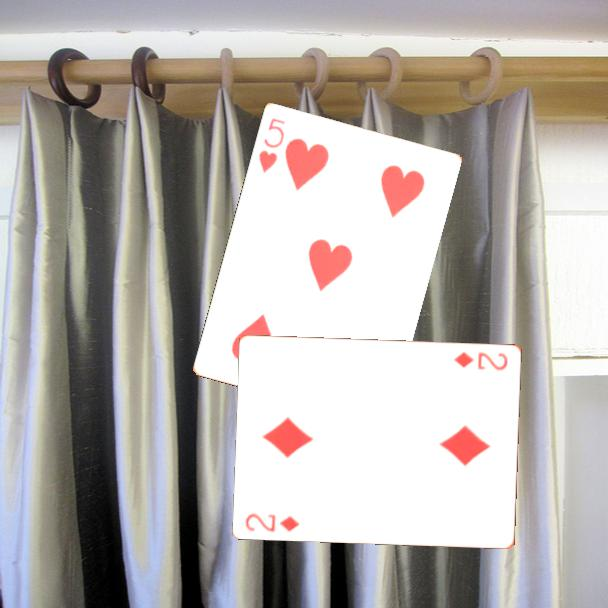d02: (451, 348, 511, 373), (242, 510, 302, 534)
h05: (255, 114, 288, 175)
